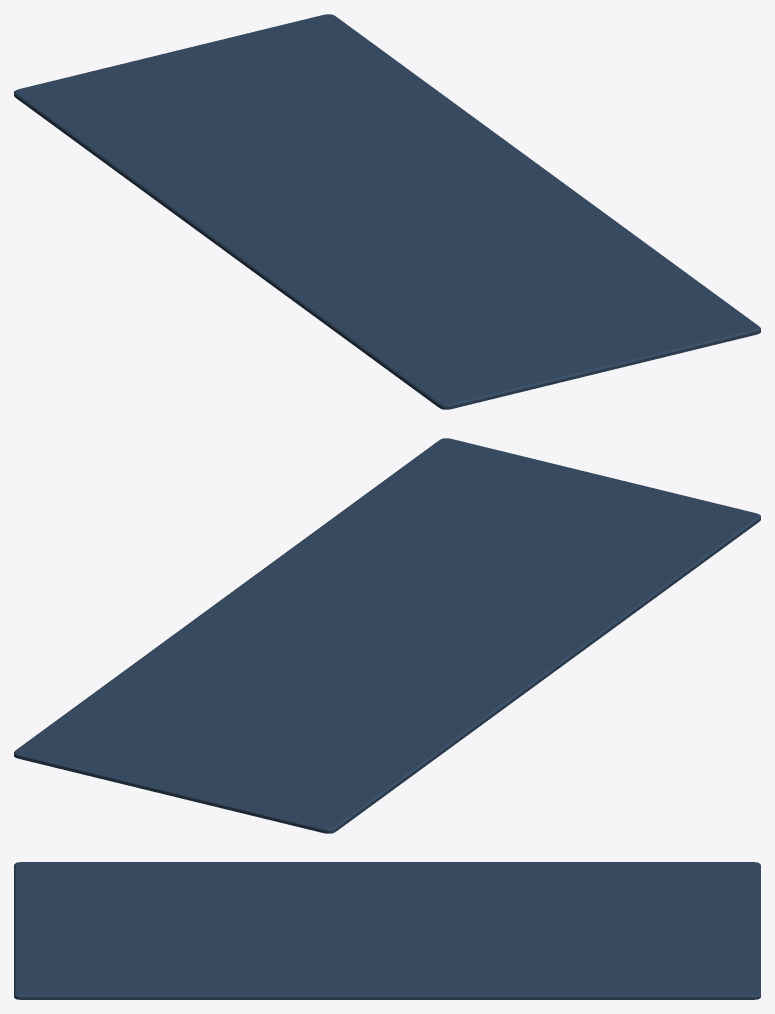
The model's file is Elevator_Display_01_Glass.fbx.
3 renders of one model, top to bottom at view 1: azimuth 30°, elevation 25°; view 2: azimuth 150°, elevation 25°; view 3: azimuth 270°, elevation 25°, orthographic. The views are drawn at different scales.
Parts seen in each view (by area): view 1: Elevator_Display_01_Glass; view 2: Elevator_Display_01_Glass; view 3: Elevator_Display_01_Glass.
Boxes of the visible parts, bbox=[...] form: Elevator_Display_01_Glass: bbox=[14, 14, 760, 409]; Elevator_Display_01_Glass: bbox=[14, 438, 760, 833]; Elevator_Display_01_Glass: bbox=[14, 862, 760, 999].
Size of the model in its own units: 15.28 by 0.2 by 35.71.
